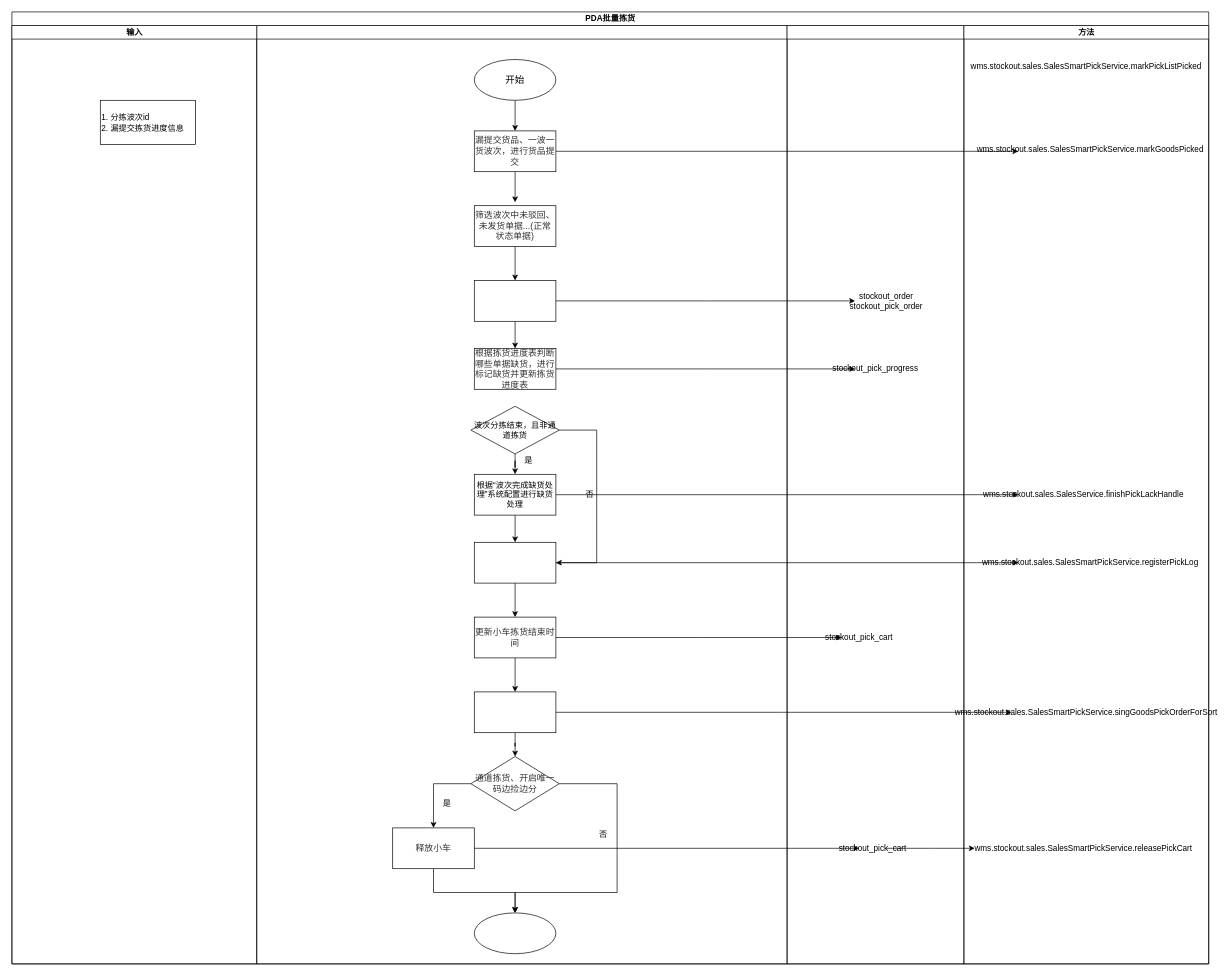
This 1229x976 diagram has some shape labels left out. Here are the shapes that lost their labels. From the top down, the box of each, then its label:
(474, 280, 556, 321): 状态变更 出库单- 已拣货 边捡边分波次-已拣货 先拣后分波次-待分货
(256, 25, 787, 964): PDA批量拣货-波次提交
(786, 25, 964, 964): 关键表信息
(474, 542, 556, 583): 计算积分，并记录拣货完成日志
(474, 691, 556, 733): 一单一货，拣货方式先拣后分，按货位排序，进行分拣序号的排序
(474, 912, 556, 954): 结束
